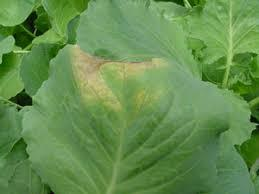Bok-Choy-Diseased: (53, 43, 215, 152)
